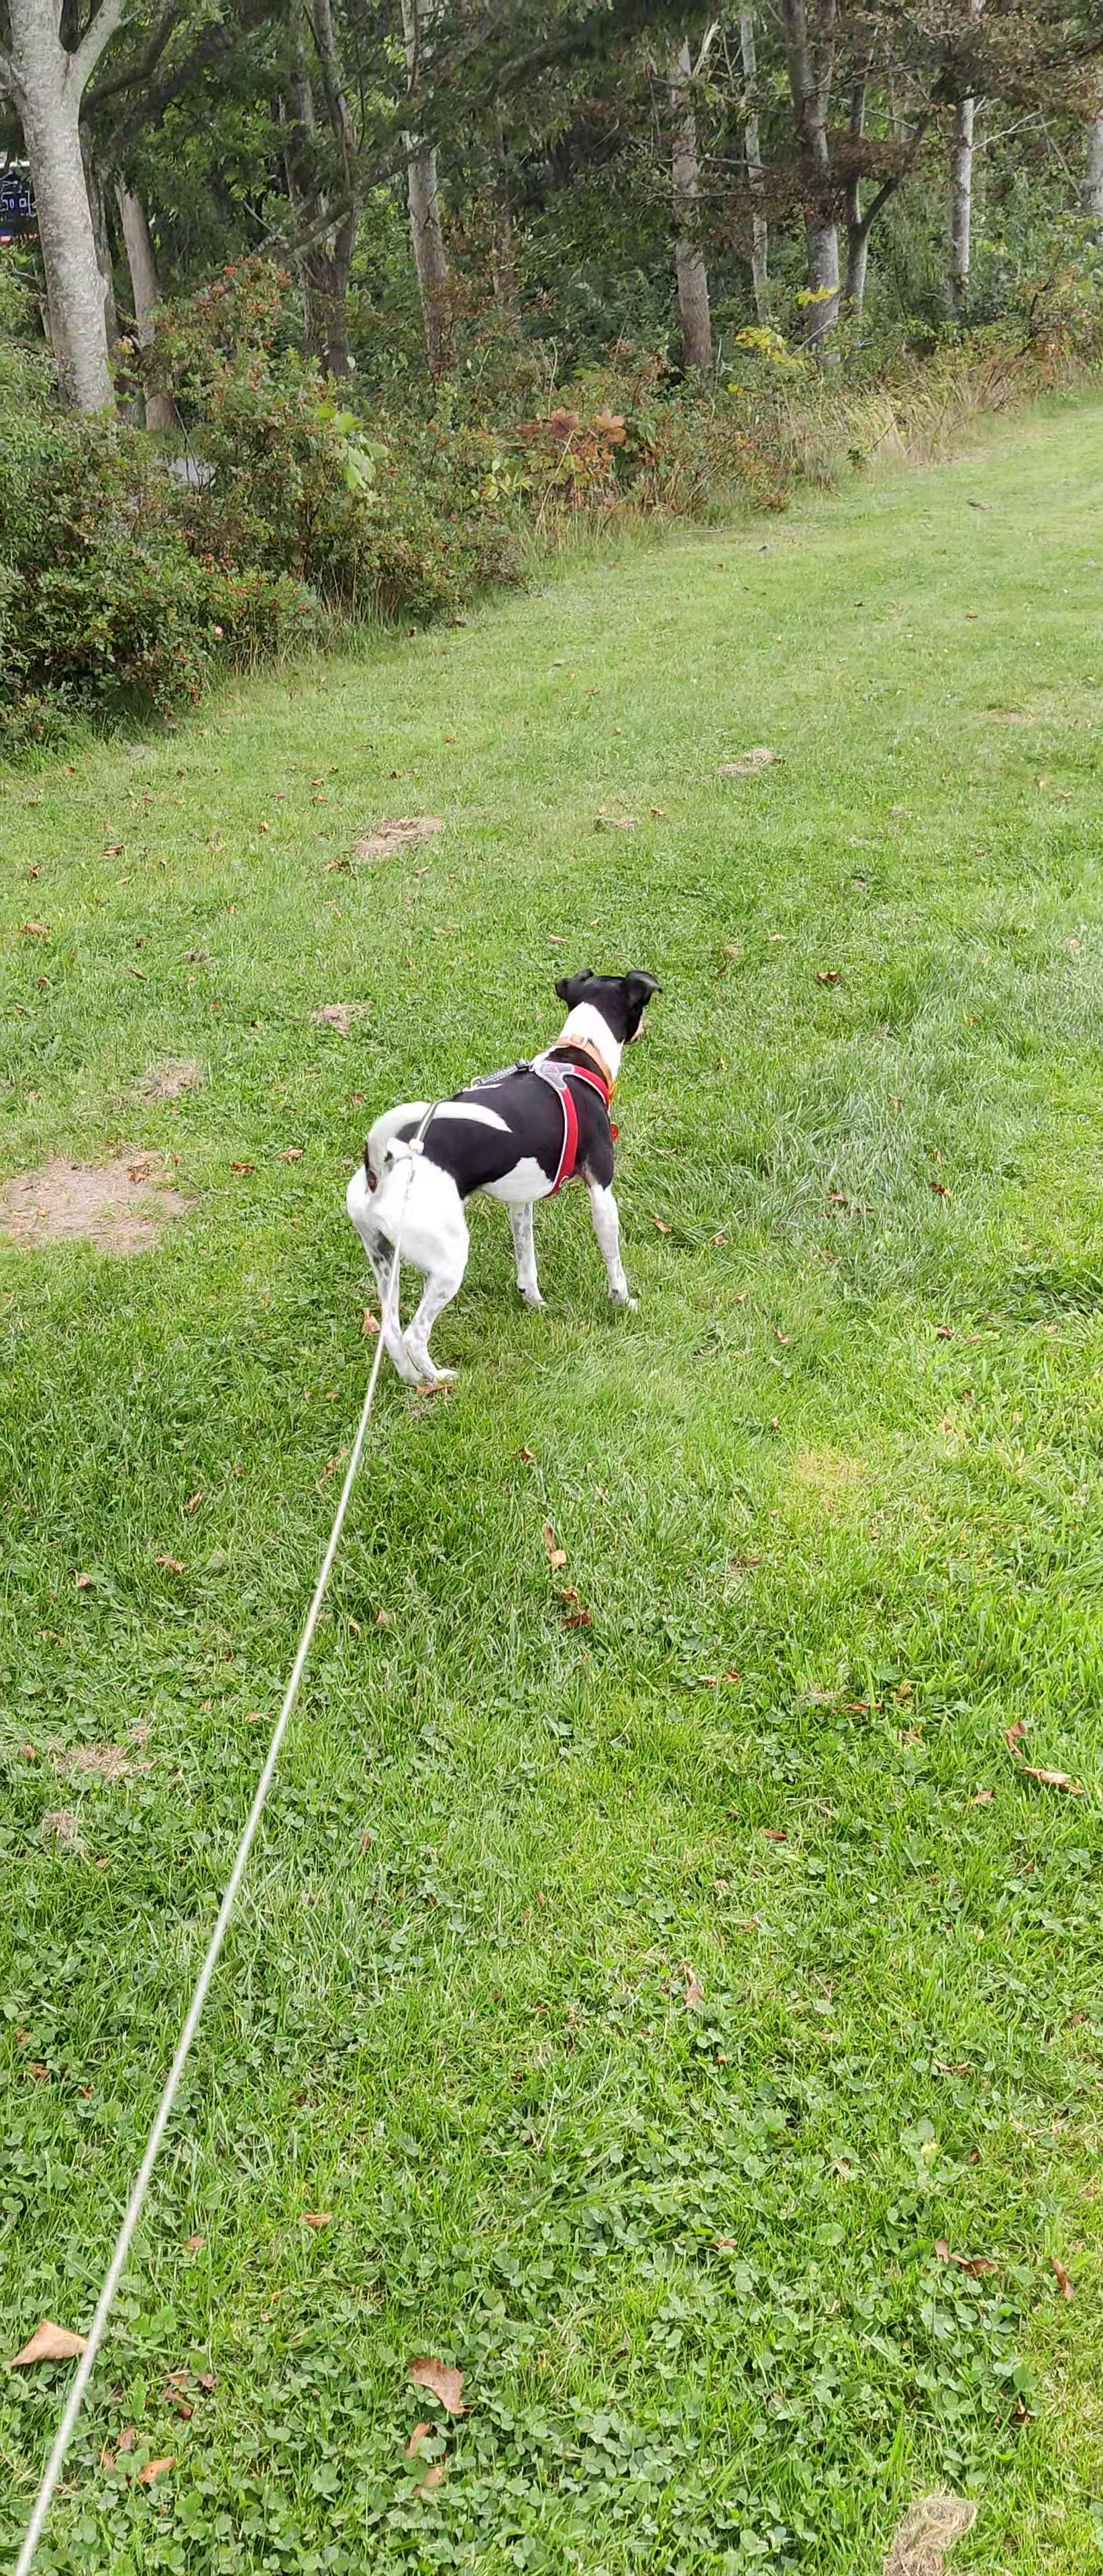Dog: (322, 941, 695, 1400)
